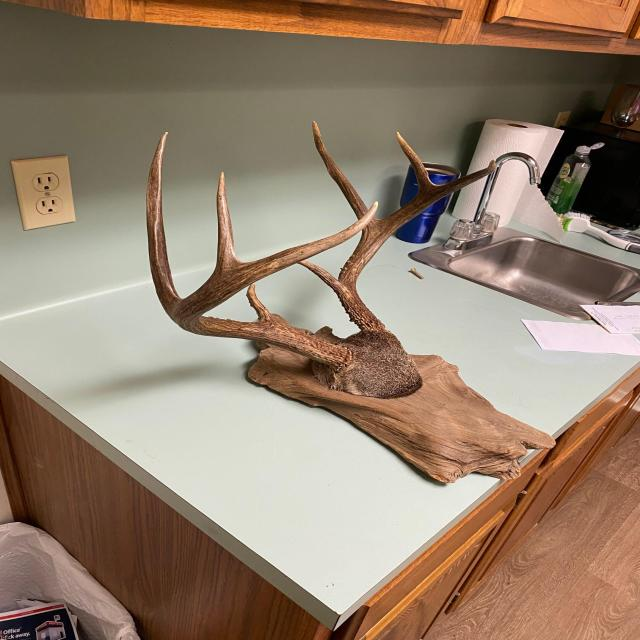L-F: (337, 159, 497, 334)
L-G1: (299, 260, 348, 297)
L-G3: (396, 131, 437, 192)
R-F: (170, 201, 379, 372)
R-G1: (246, 284, 284, 325)
R-G2: (146, 132, 182, 318)
R-G3: (214, 171, 242, 272)
